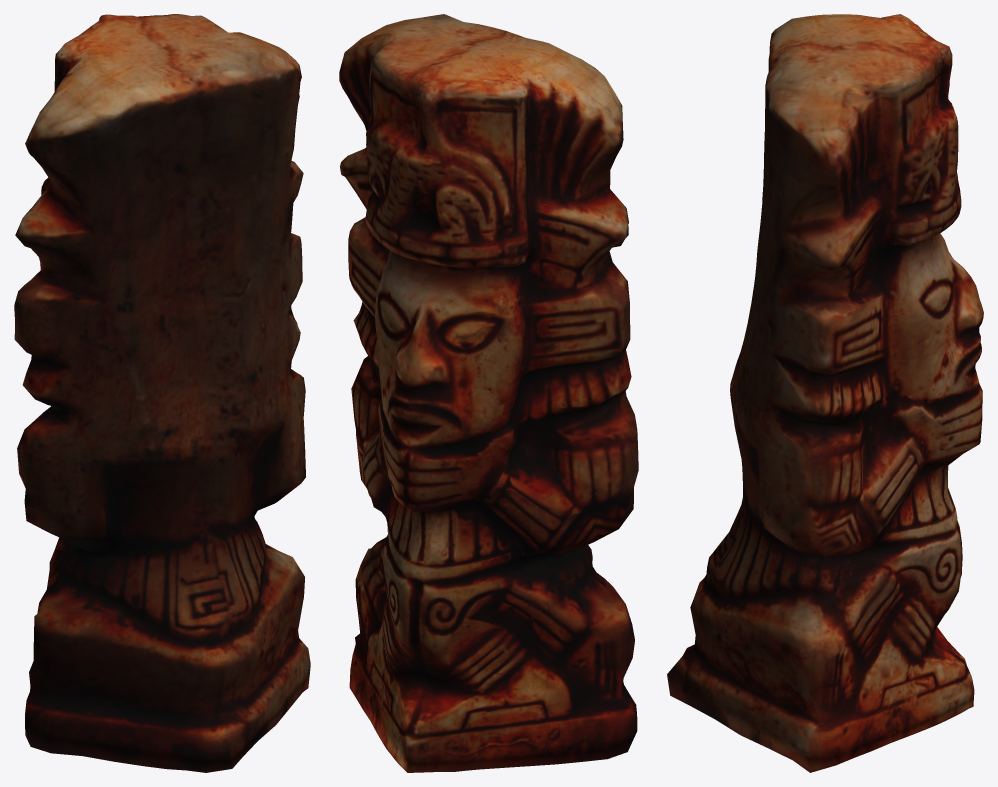
The model's file is MayanFigure2.fbx.
3 views of the same model, side by side, from view 1: azimuth 30°, elevation 25°; view 2: azimuth 150°, elevation 25°; view 3: azimuth 270°, elevation 25° (orthographic). The views are drawn at different scales.
Parts seen in each view (by area): view 1: default1; view 2: default1; view 3: default1.
Boxes of the visible parts, x1,y1,x2,y2 form: default1: [14, 14, 310, 772]; default1: [339, 14, 638, 772]; default1: [667, 14, 983, 772].
Bounding box in the file's own units: 4.34 × 9.75 × 4.2.
1 material, 1 textured.
